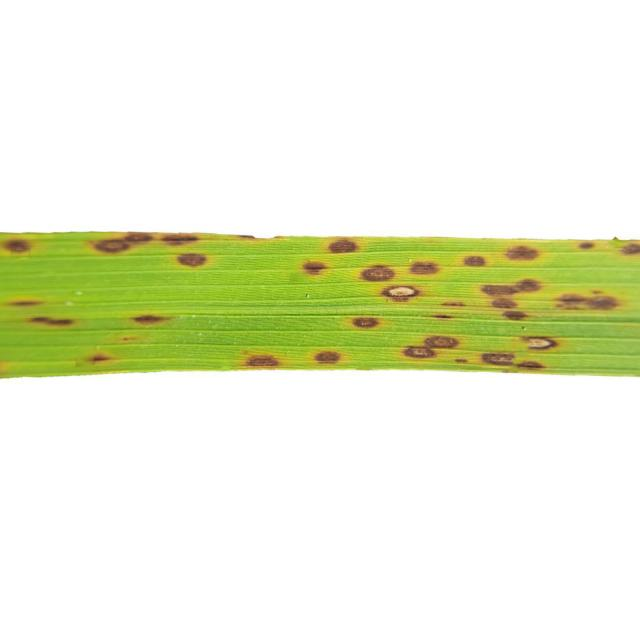Brown_Spot: (480, 279, 541, 320), (91, 232, 154, 254), (401, 335, 459, 358), (555, 294, 619, 310), (380, 284, 421, 301), (360, 264, 396, 282), (504, 245, 540, 261), (0, 238, 34, 254), (326, 238, 360, 254), (176, 252, 209, 268), (409, 260, 440, 276), (160, 234, 200, 245), (30, 316, 74, 326), (301, 260, 329, 275), (481, 352, 512, 365), (314, 350, 341, 364), (351, 316, 380, 329), (246, 355, 278, 366), (461, 255, 488, 268), (132, 315, 170, 324), (525, 338, 556, 349), (516, 361, 544, 369), (441, 300, 465, 308), (621, 244, 640, 254), (10, 300, 41, 306), (92, 354, 111, 362), (578, 241, 594, 249)
